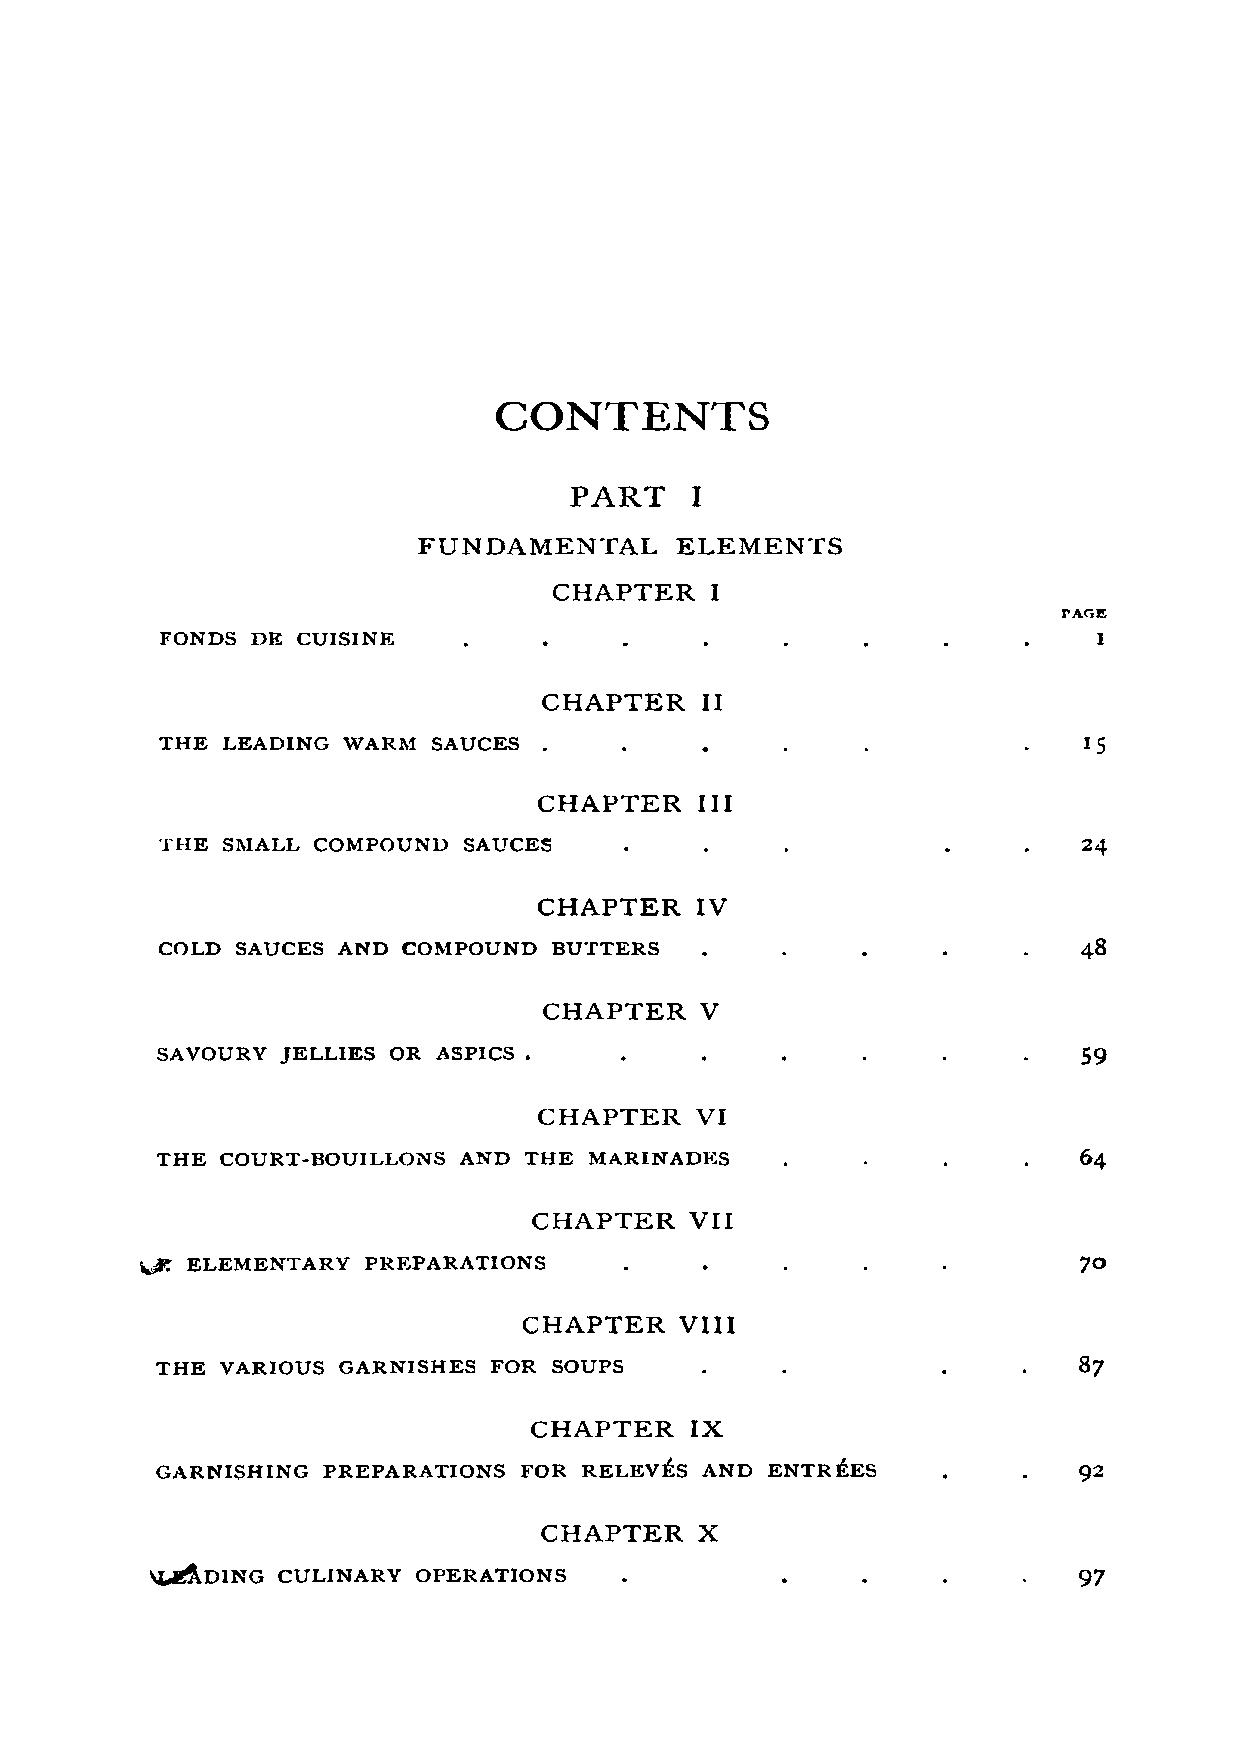TOC_chapter: (407, 482, 849, 558), (150, 1457, 884, 1484), (158, 935, 666, 962), (152, 1147, 735, 1169), (156, 1354, 627, 1380), (153, 1252, 552, 1278), (156, 1563, 570, 1588), (153, 1041, 523, 1066), (158, 833, 556, 855), (158, 733, 519, 754), (517, 1311, 741, 1339), (531, 894, 729, 921), (523, 1414, 729, 1440), (157, 629, 397, 651), (526, 1209, 735, 1232), (534, 1520, 721, 1546), (548, 578, 723, 605), (531, 1106, 731, 1129), (531, 793, 738, 815), (535, 691, 726, 714), (538, 1001, 721, 1023)
TOC_pagenumber: (1078, 829, 1110, 859), (1078, 1143, 1104, 1176), (1076, 1457, 1104, 1486), (1075, 1251, 1106, 1276), (1079, 1563, 1107, 1590), (1076, 1351, 1102, 1380), (1084, 730, 1108, 760), (1082, 934, 1102, 961), (1082, 1045, 1106, 1067), (1092, 628, 1110, 650)
chapter: (484, 393, 774, 428)
